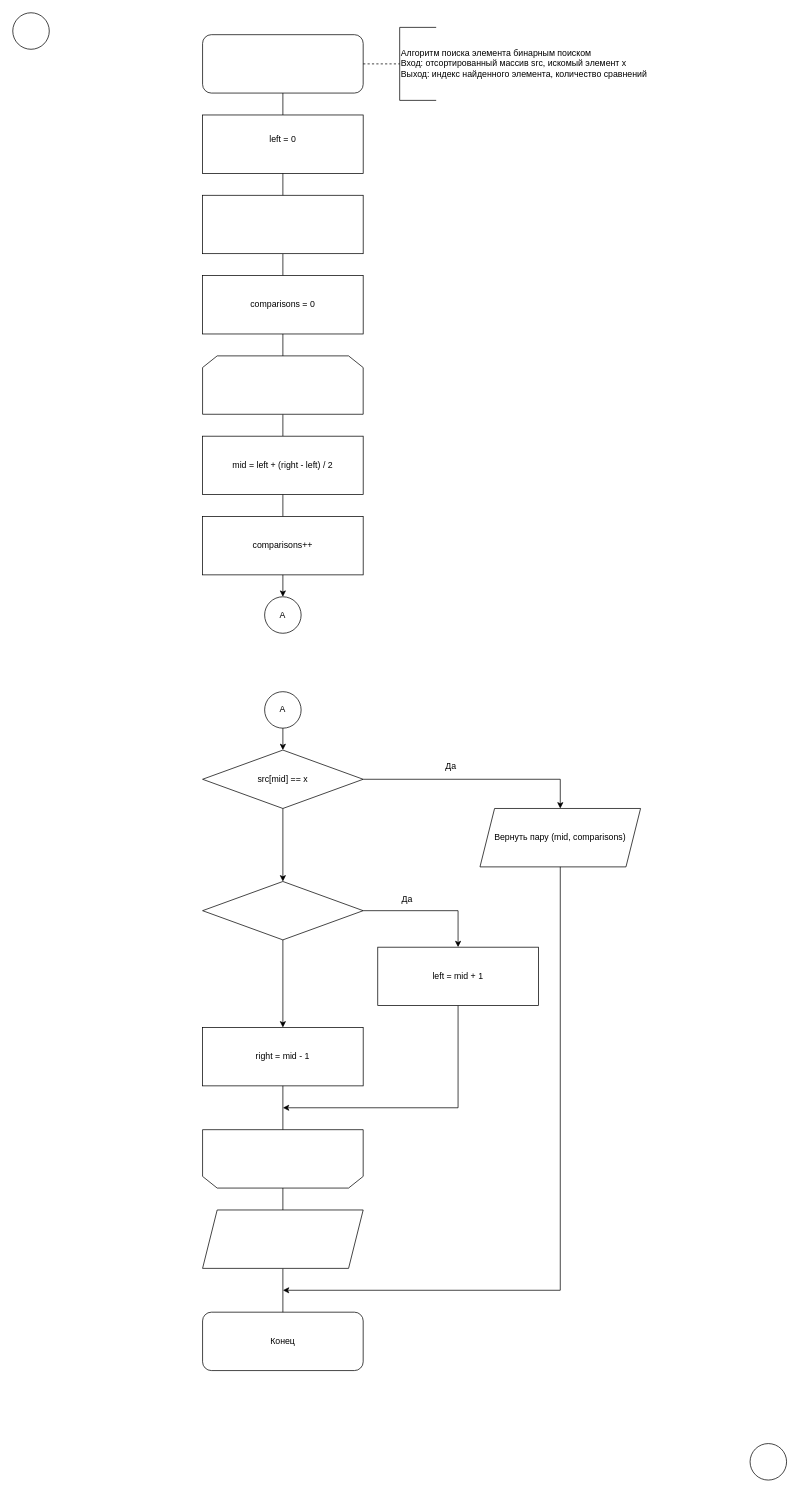
This 799x1493 diagram has some shape labels left out. The shapes that lost their labels are listed below. From the top down, each one's centre as x and y in pixels, then its label:
At (282,63): "Начало".
At (282,224): "right = длина массива src - 1".
At (282,384): "left <= right".
At (282,910): "src[mid] < x".
At (282,1158): "Конец цикла".
At (282,1238): "Вернуть пару (-1, comparisons)".
